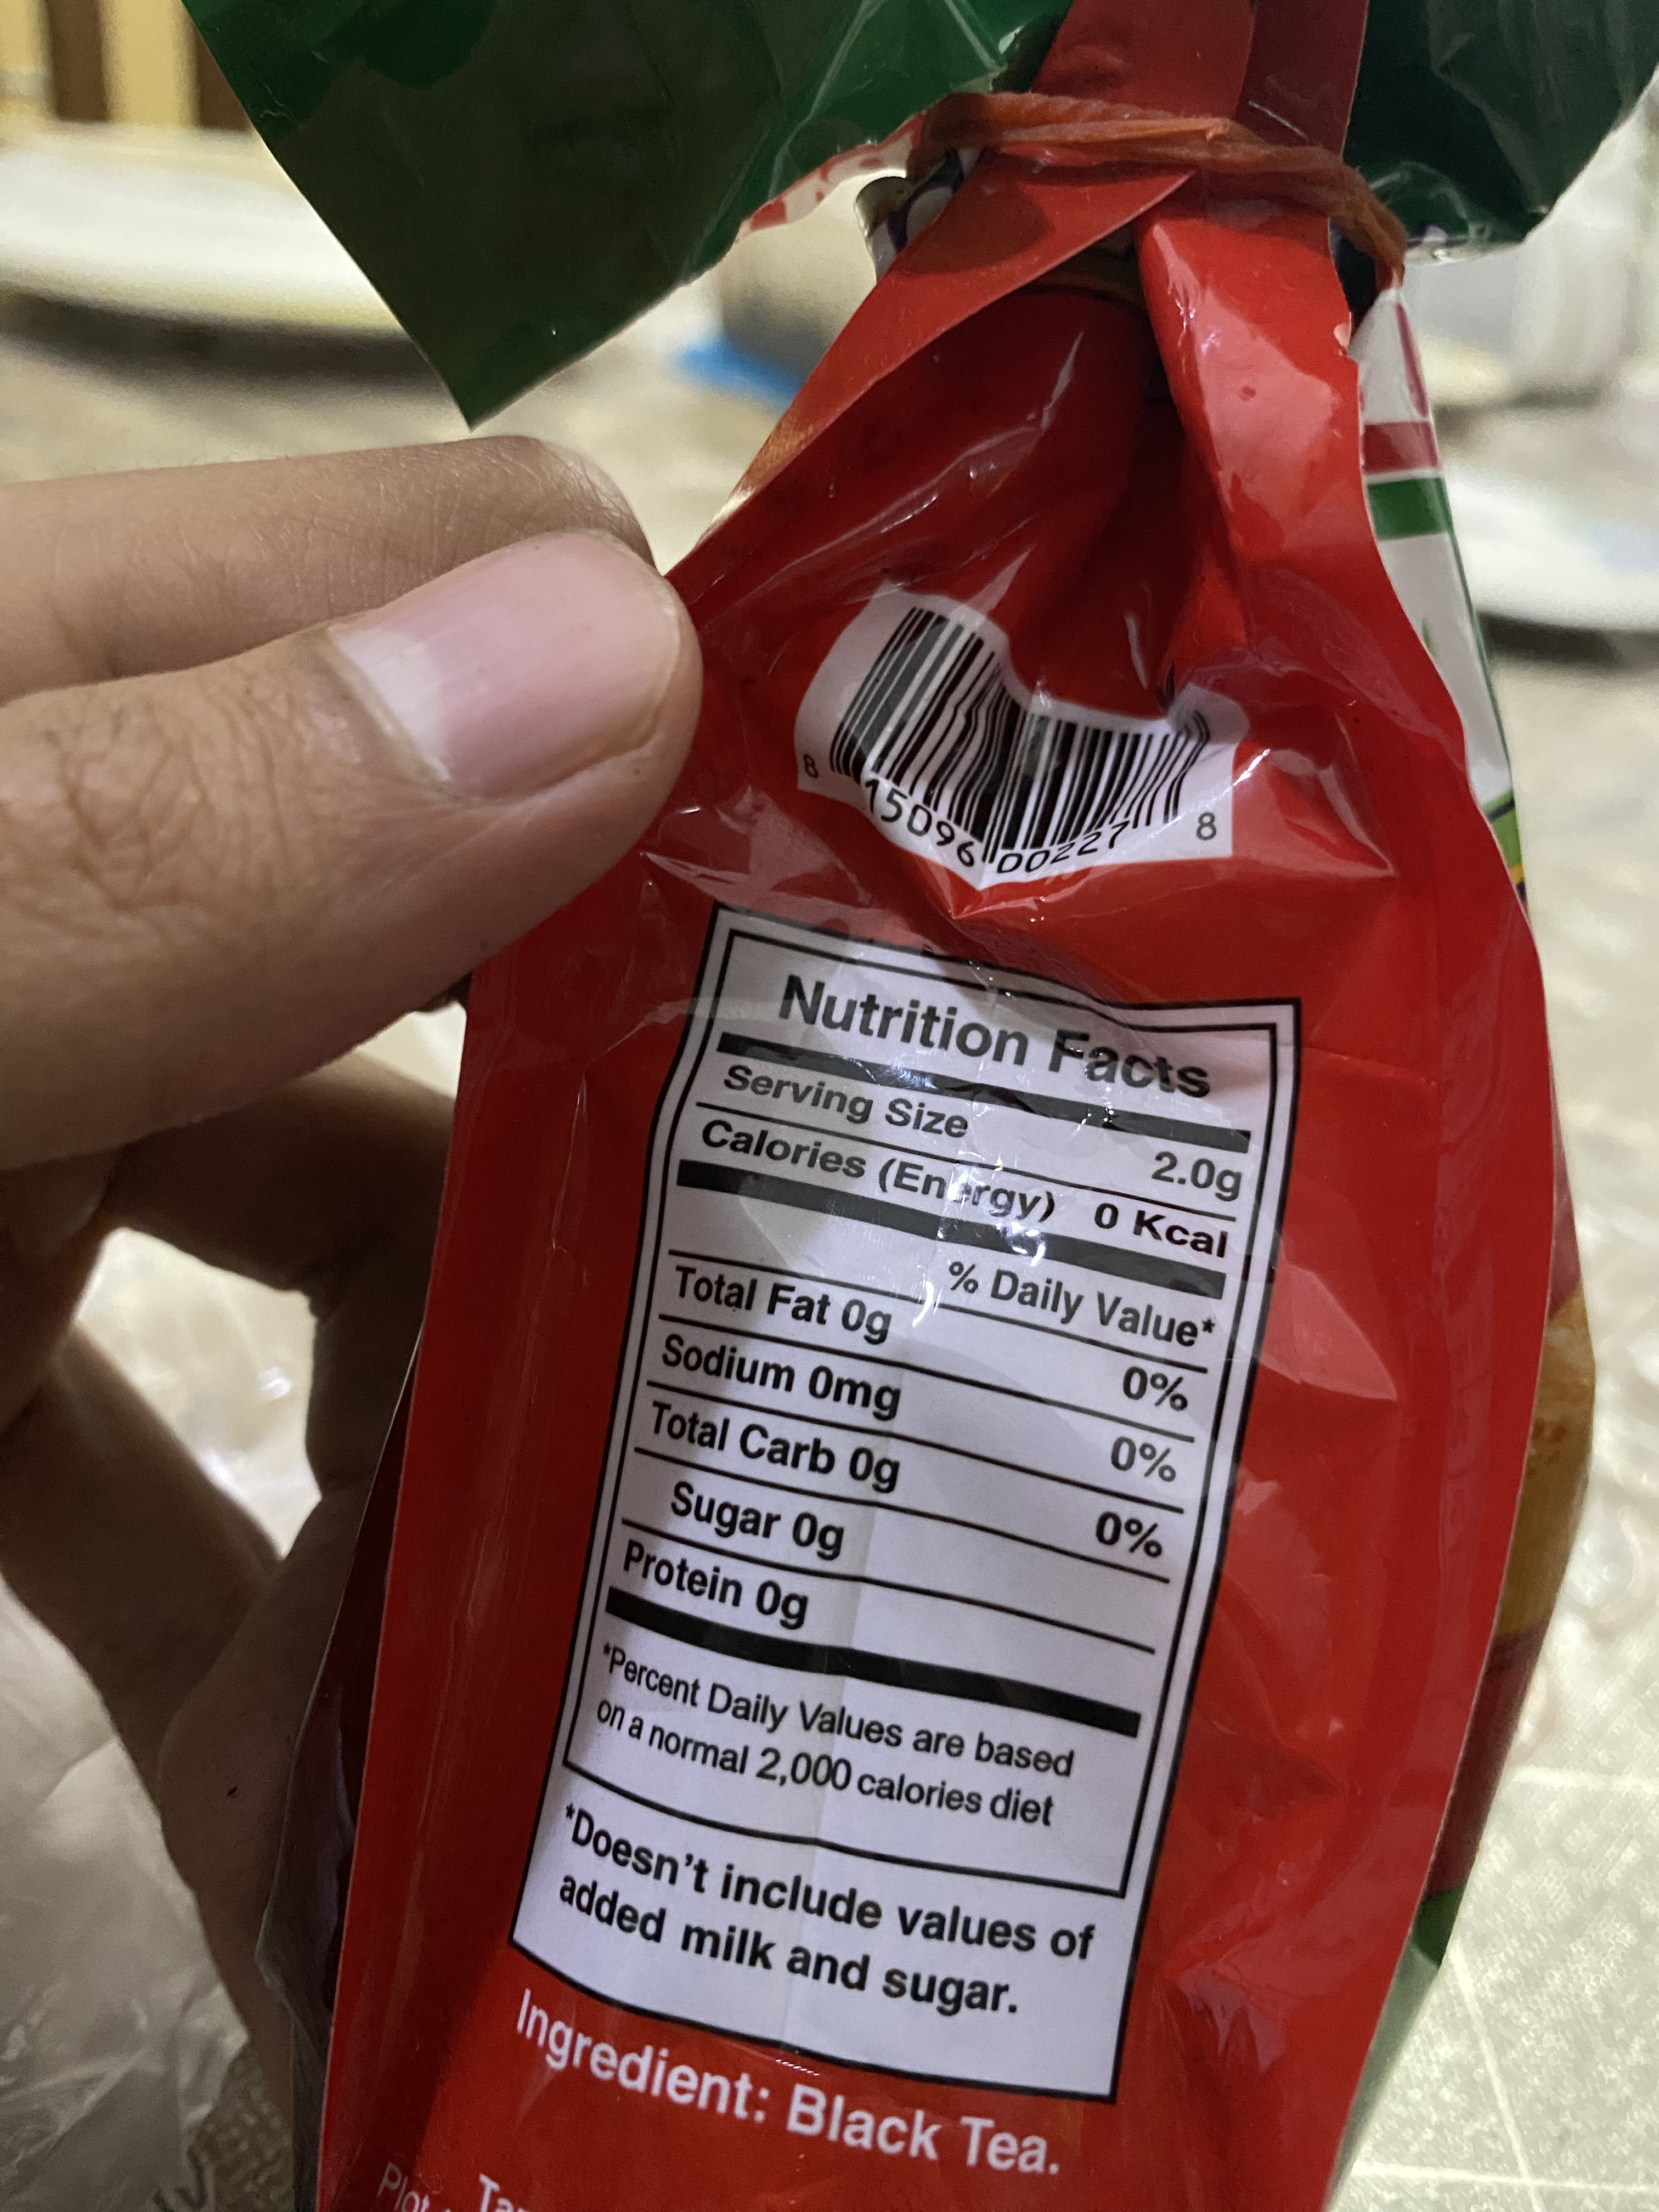table: (509, 902, 1316, 2114)
